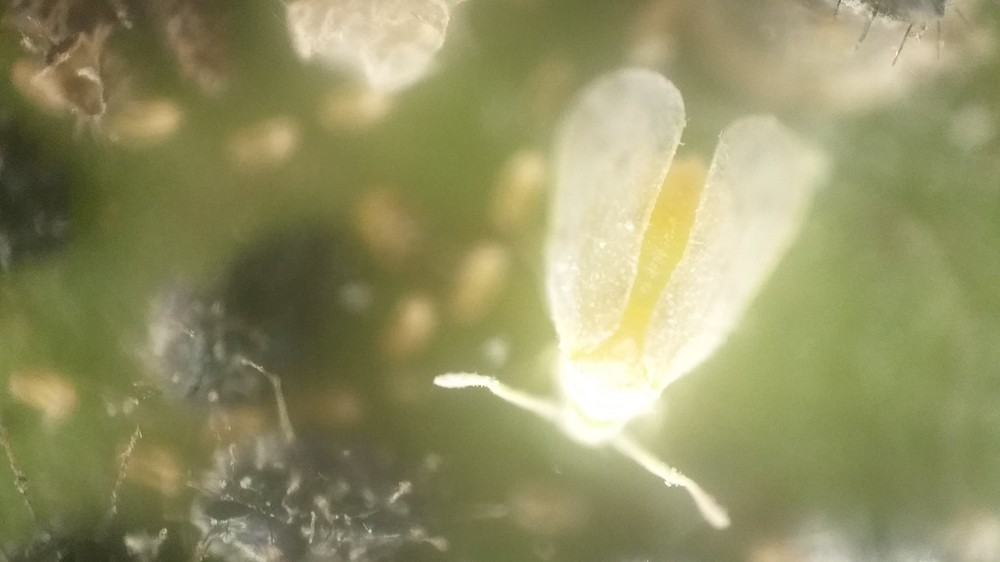Mosca Blanca: (428, 26, 840, 538)
